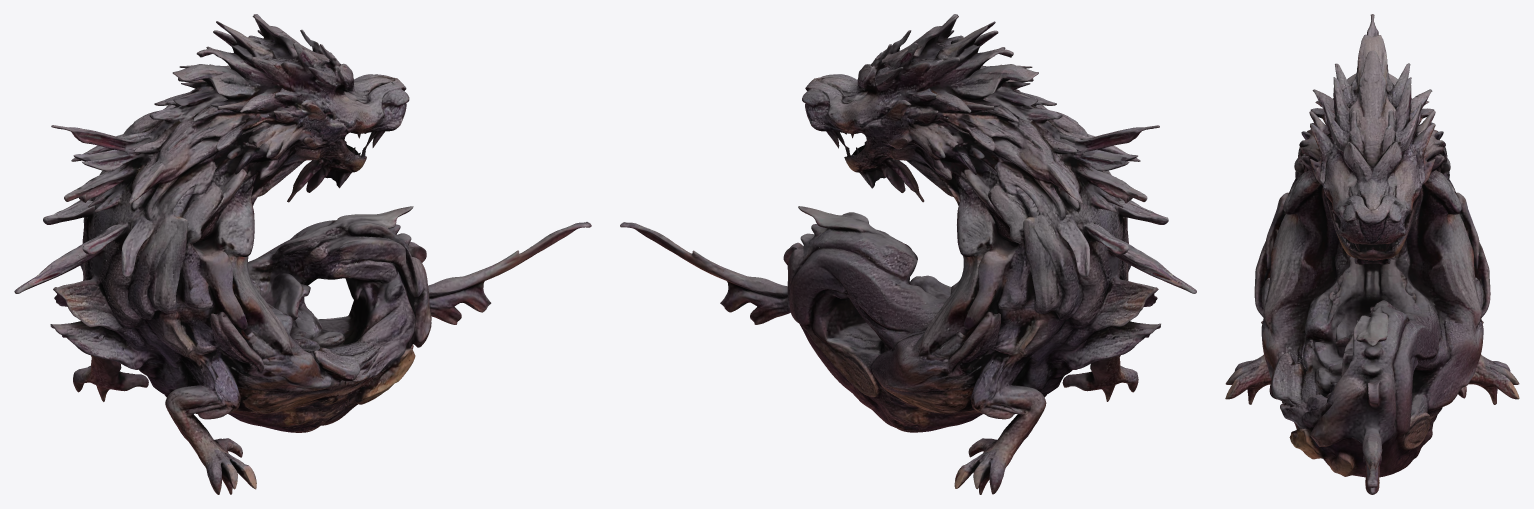
Rendered from rongcuon-v3.glb.
3 renders of one model, left to right at view 1: azimuth 30°, elevation 25°; view 2: azimuth 150°, elevation 25°; view 3: azimuth 270°, elevation 25°, orthographic. The views are drawn at different scales.
Parts seen in each view (by area): view 1: tripo_node_ed15f1e4-638f-4cc6-9bc1-3808b1aa9853; view 2: tripo_node_ed15f1e4-638f-4cc6-9bc1-3808b1aa9853; view 3: tripo_node_ed15f1e4-638f-4cc6-9bc1-3808b1aa9853.
Part boxes in pixels (x1,y1,x2,y2): tripo_node_ed15f1e4-638f-4cc6-9bc1-3808b1aa9853: (14,14,591,494); tripo_node_ed15f1e4-638f-4cc6-9bc1-3808b1aa9853: (620,14,1196,494); tripo_node_ed15f1e4-638f-4cc6-9bc1-3808b1aa9853: (1225,14,1519,494).
Size of the model in its own units: 0.9999 by 0.6839 by 0.4609.
Materials: 1 (1 with a texture image).
